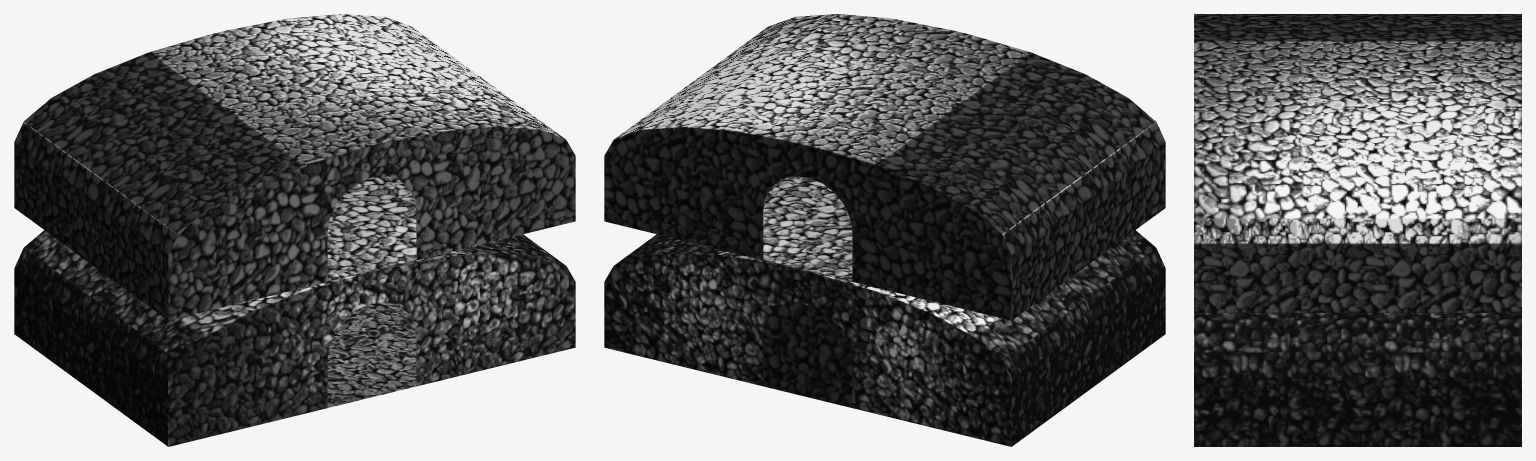
The model's file is HoleRoom.fbx.
3 renders of one model, left to right at view 1: azimuth 30°, elevation 25°; view 2: azimuth 150°, elevation 25°; view 3: azimuth 270°, elevation 25°, orthographic. The views are drawn at different scales.
Parts seen in each view (by area): view 1: Room4; view 2: Room4; view 3: Room4.
Part boxes in pixels (x1,y1,x2,y2): Room4: (14,14,575,446); Room4: (604,14,1165,446); Room4: (1194,14,1521,446).
Size of the model in its own units: 915 by 540 by 600.
